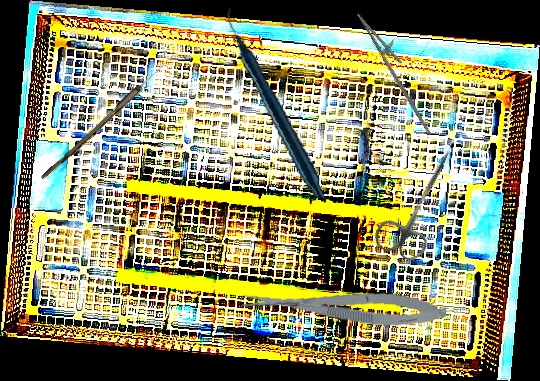Handpiece: (200, 8, 354, 199)
Iris Scissors: (370, 137, 471, 267)
Micro Scissor: (240, 279, 448, 332)
Needle Holder: (342, 5, 454, 137)
Surgical Spoon: (40, 51, 177, 183)
